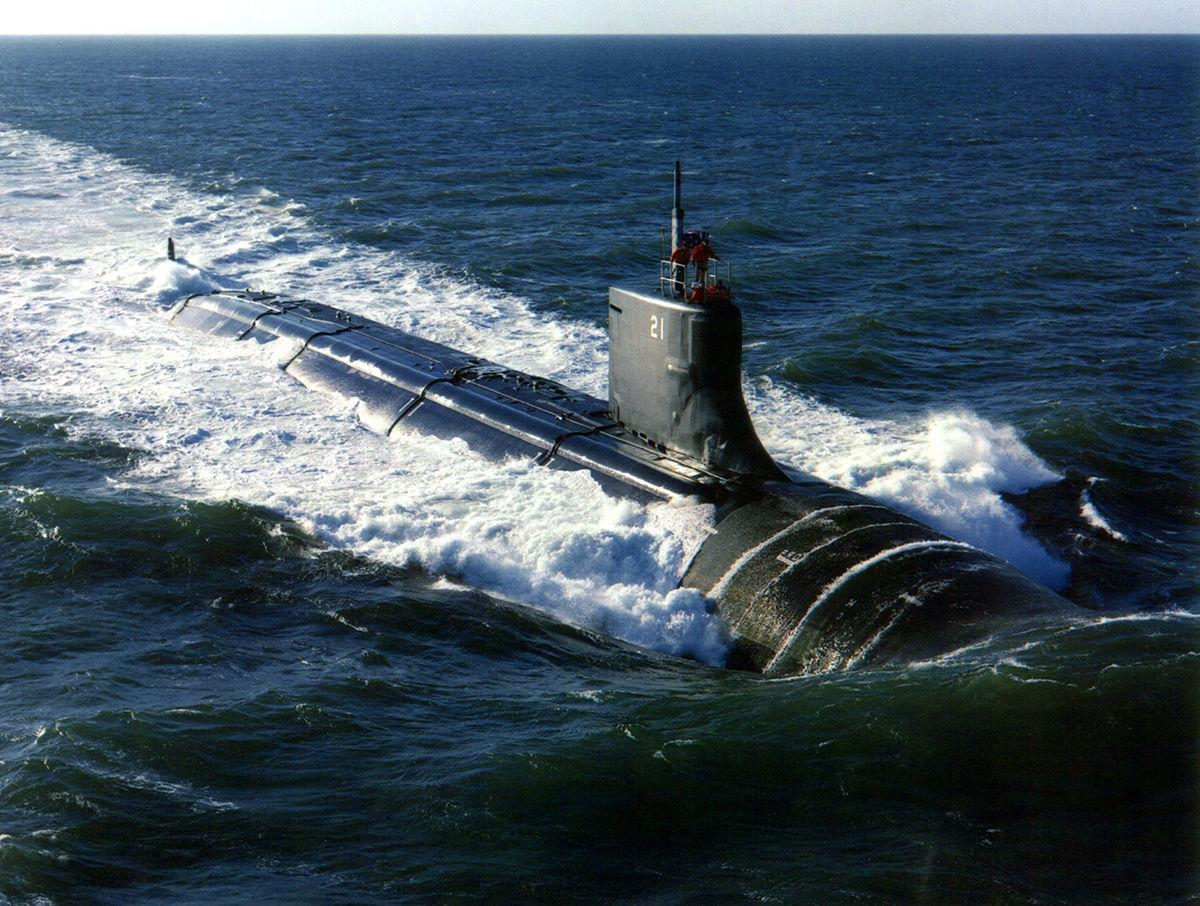Submarine: (13, 113, 1200, 848)
